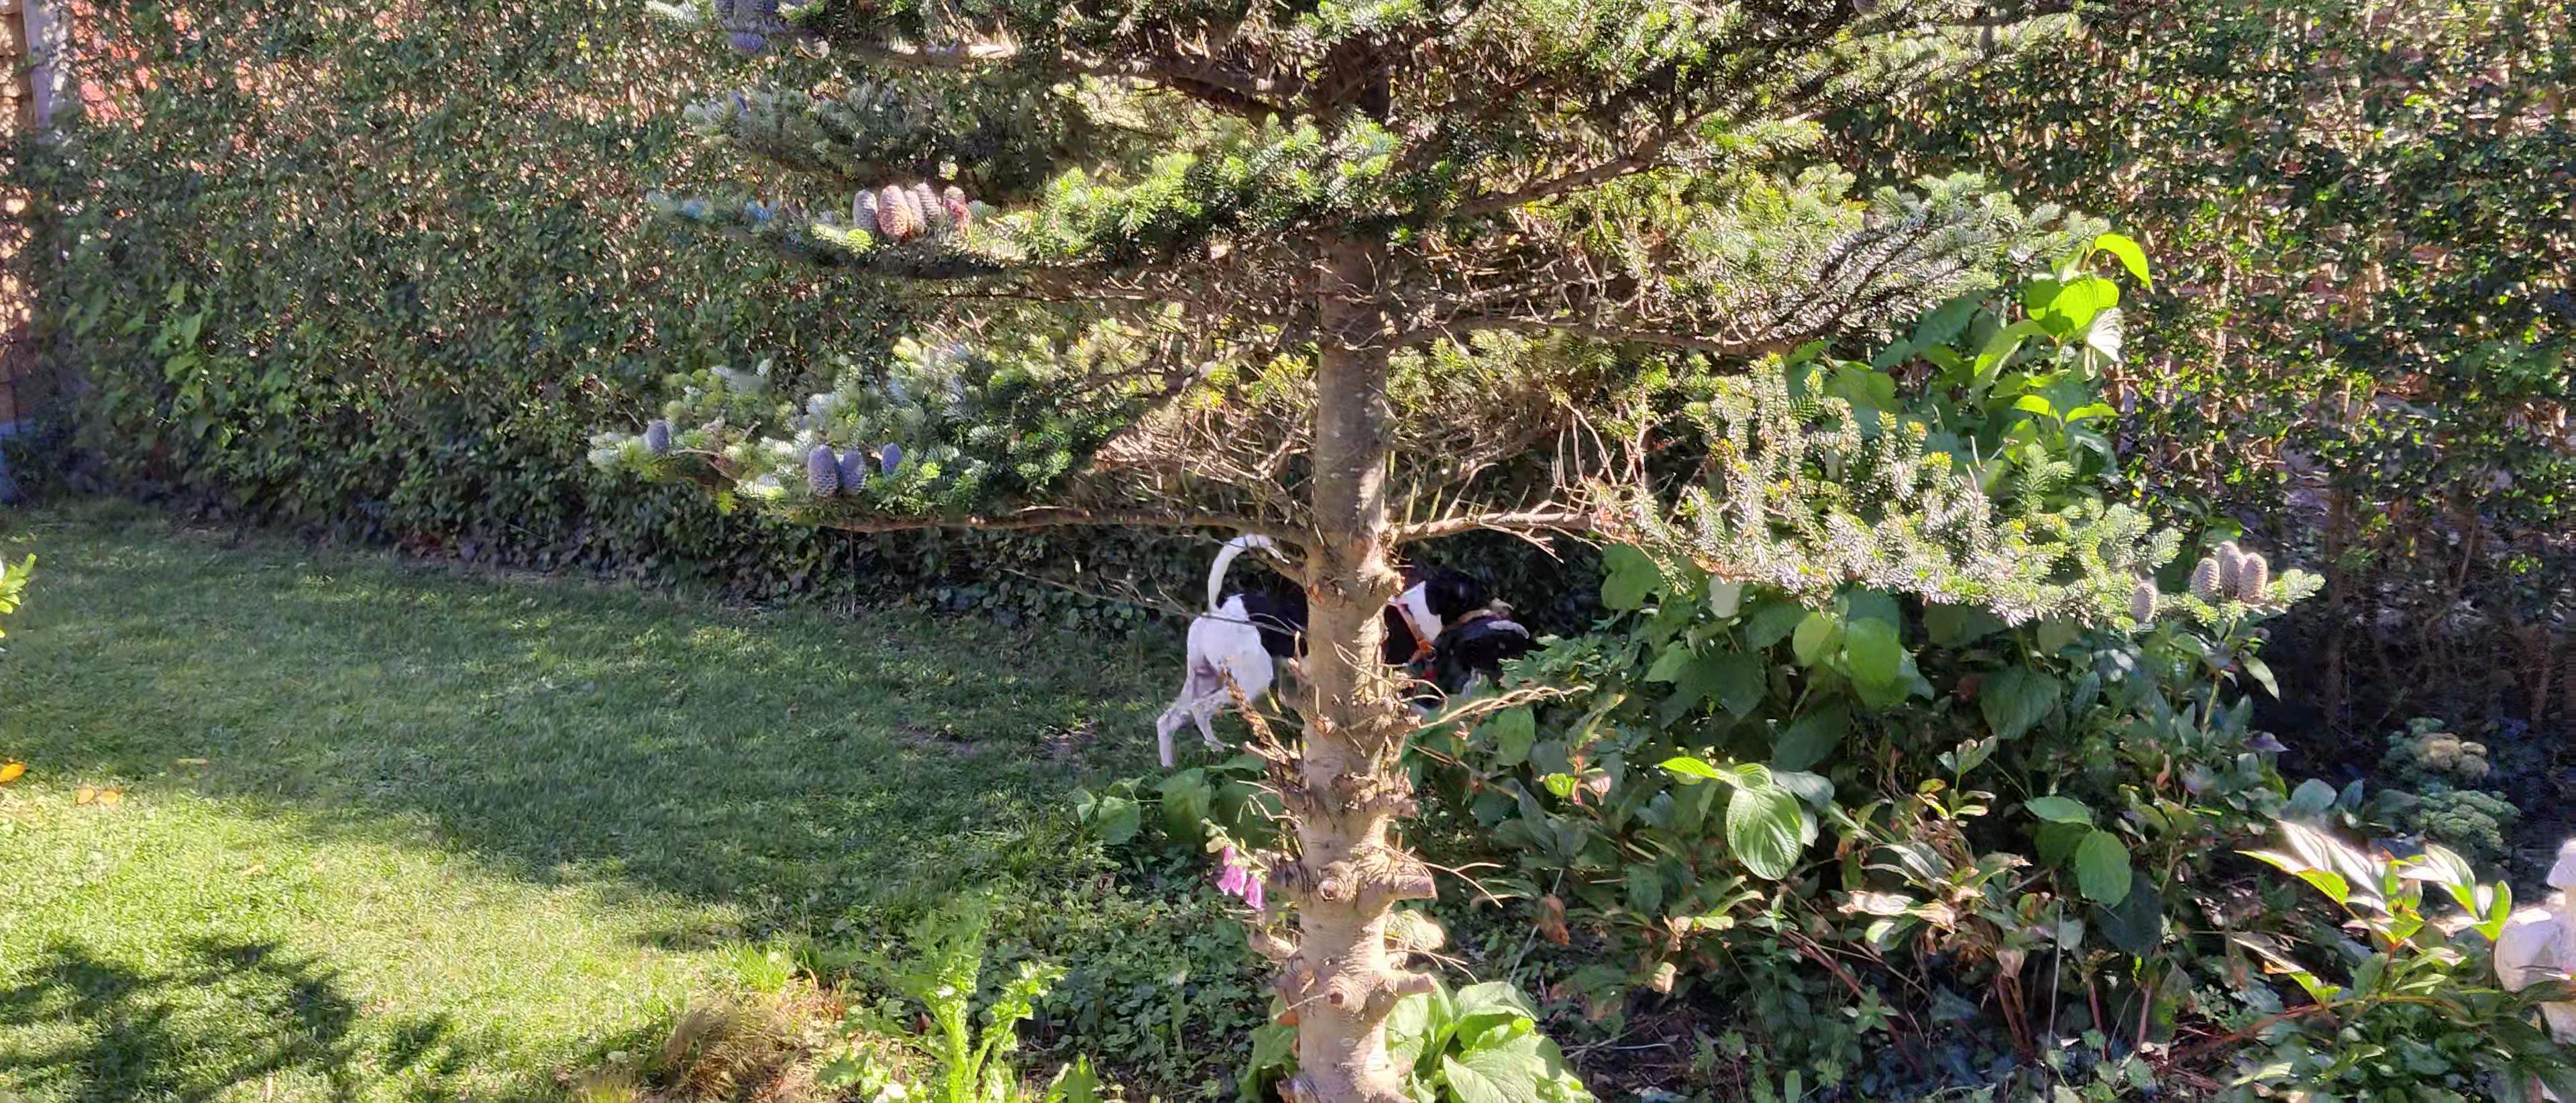Dog: (1157, 533, 1513, 769)
